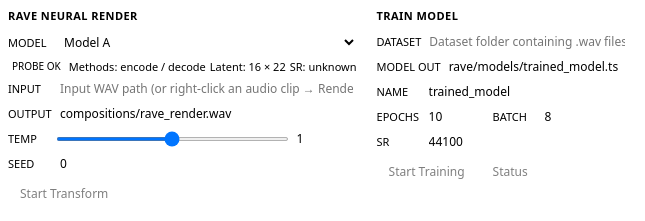
Test case: NeuralPanel › (l) Status polls rave.trainingJobStatus and updates training message
Step 1. Type "C:/data/rave" into the field with placeholder "Dataset folder containing .wav files" → (527, 42), box [425, 31, 629, 52]
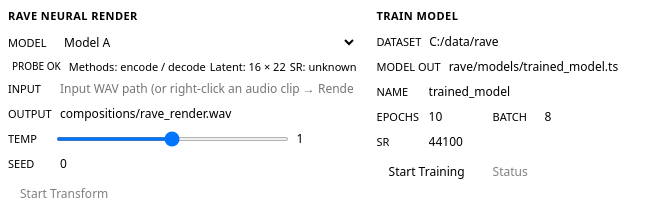
Step 2. Click the button "Start Training" → (426, 172), box [376, 160, 476, 183]
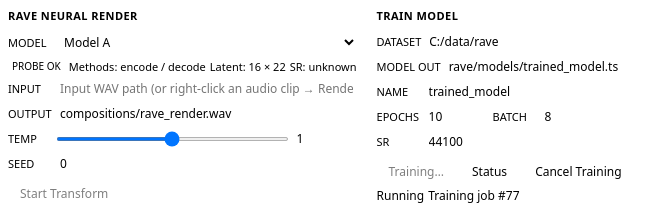
Step 3. Click the button "Status" → (490, 172), box [460, 160, 519, 183]
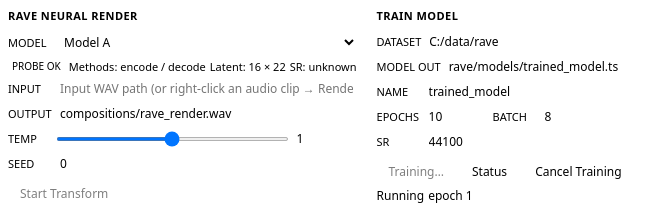
Now the text "epoch 1" is shown, box [428, 187, 473, 204]
